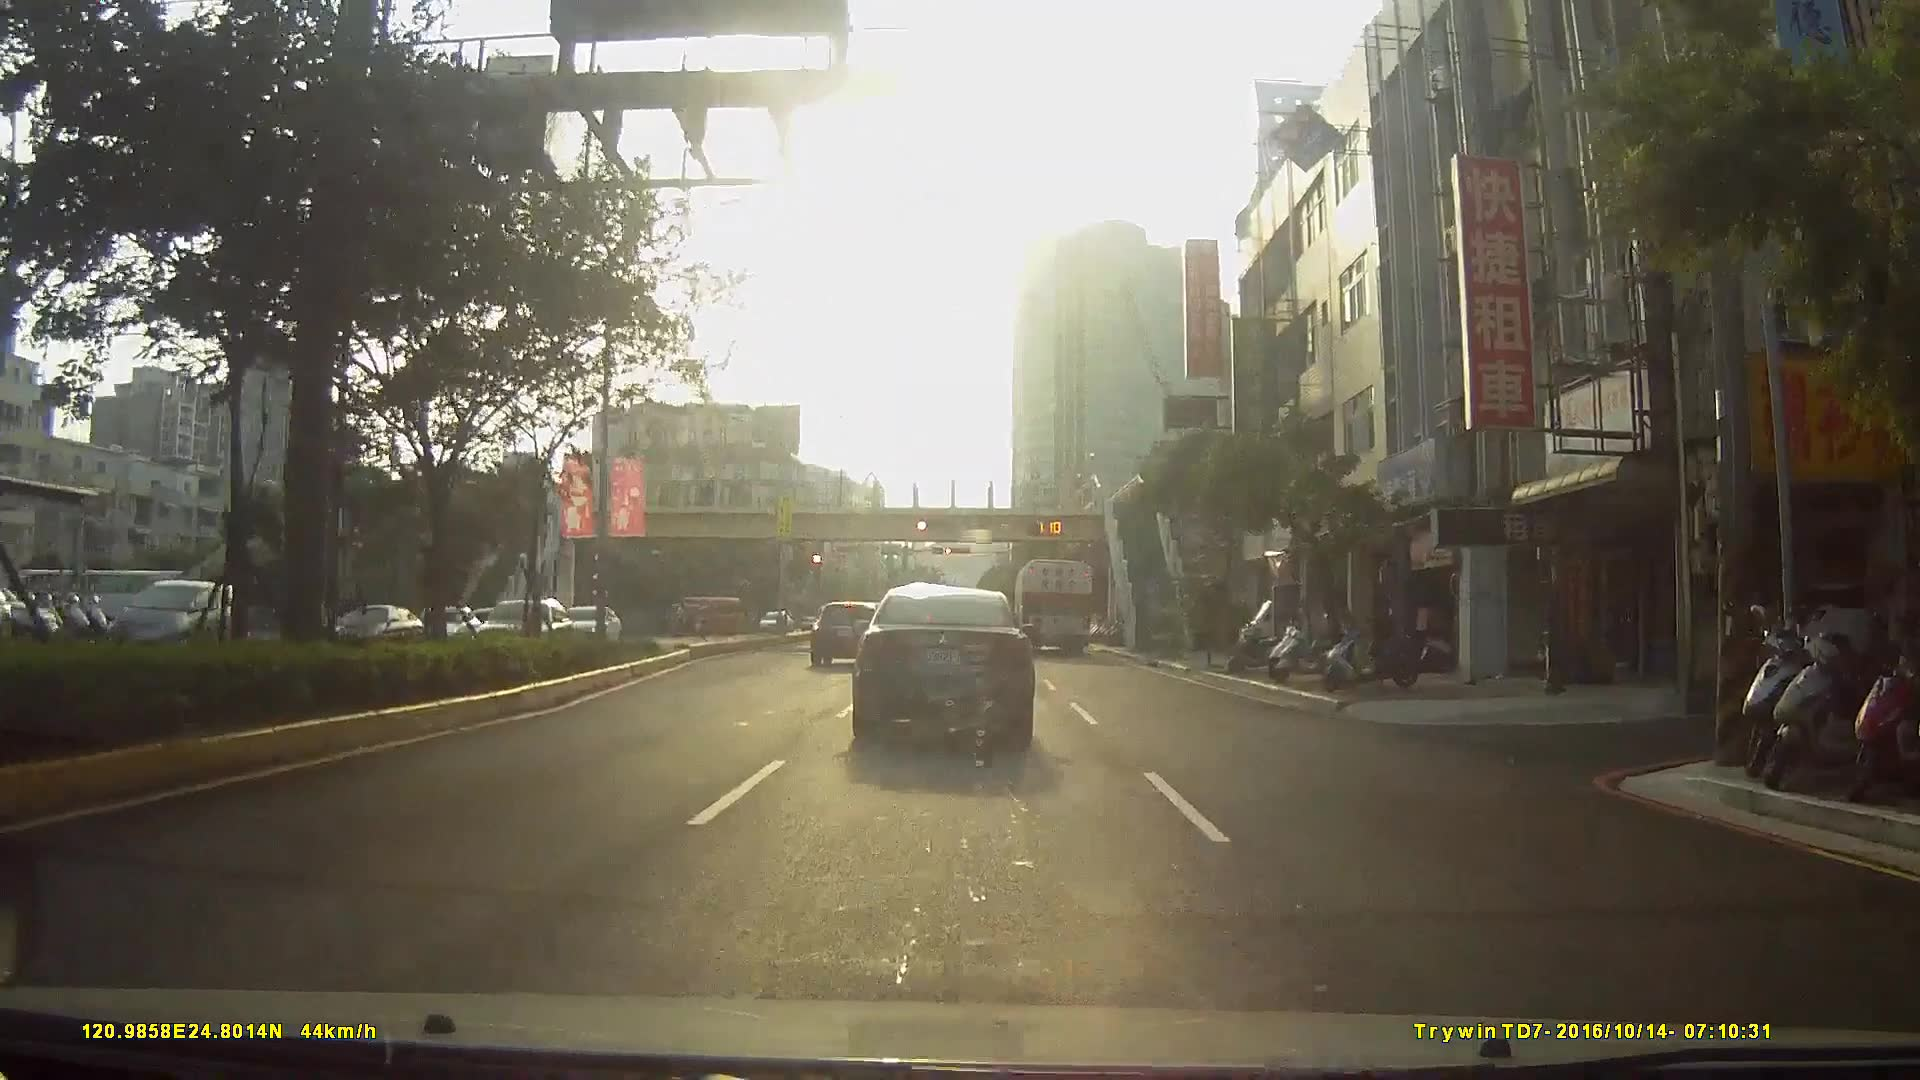vehicle: (851, 582, 1036, 740), (100, 578, 243, 659), (1010, 556, 1095, 655), (807, 600, 880, 671), (753, 608, 793, 634)
